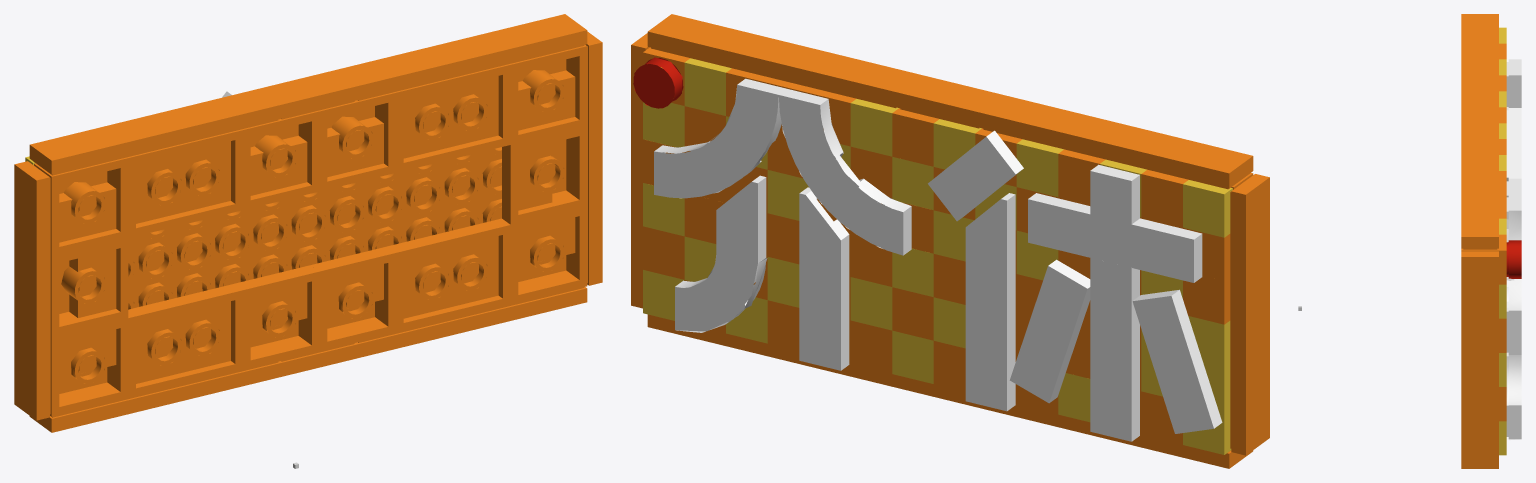
3 views of the same model, side by side, from view 1: azimuth 30°, elevation 25°; view 2: azimuth 150°, elevation 25°; view 3: azimuth 270°, elevation 25° (orthographic). The views are drawn at different scales.
Parts seen in each view (by area): view 1: 介休橙色; view 2: 介休橙色; view 3: 介休橙色.
Boxes of the visible parts, left/top/right/bottom form: 介休橙色: left=14, top=14, right=602, bottom=432; 介休橙色: left=631, top=14, right=1269, bottom=468; 介休橙色: left=1461, top=14, right=1521, bottom=468.
Bounding box in the file's own units: 296 × 137 × 119.
